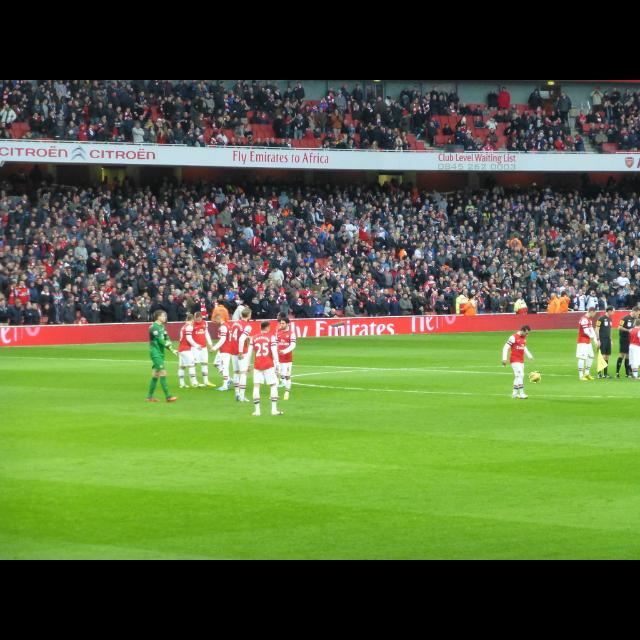Football: (530, 372, 540, 382)
